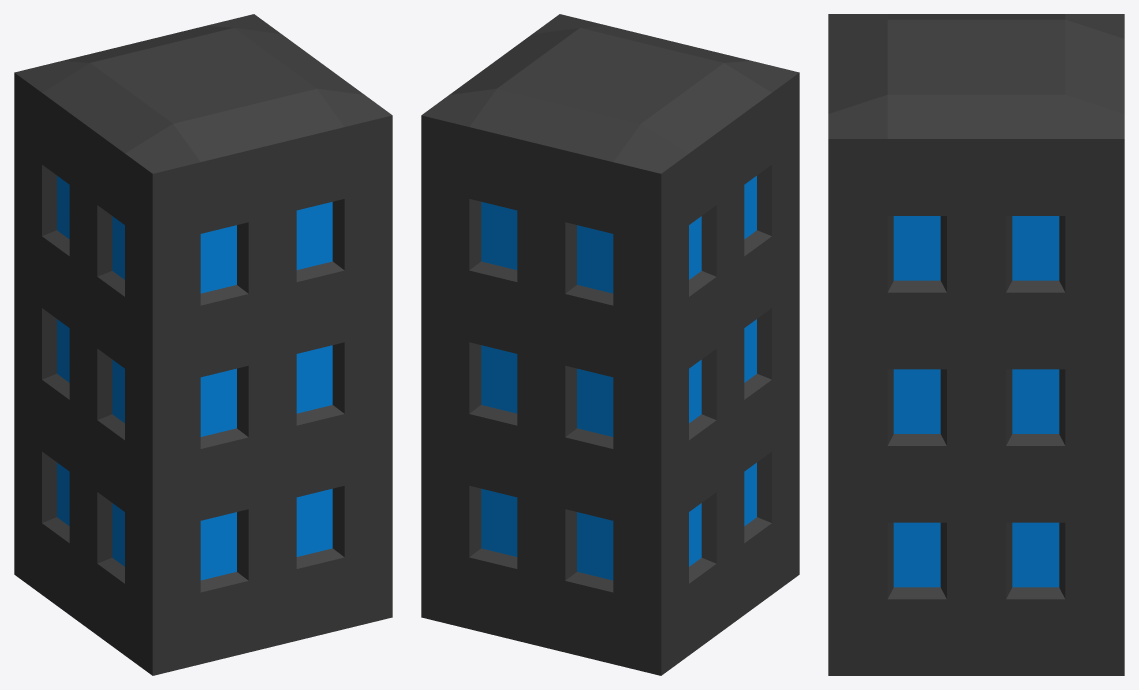
The model's file is Building.fbx.
3 renders of one model, left to right at view 1: azimuth 30°, elevation 25°; view 2: azimuth 150°, elevation 25°; view 3: azimuth 270°, elevation 25°, orthographic. The views are drawn at different scales.
Visible parts, largest first — view 1: Cube; view 2: Cube; view 3: Cube.
Boxes of the visible parts, x1,y1,x2,y2 form: Cube: (14, 14, 392, 675); Cube: (421, 14, 799, 675); Cube: (828, 14, 1124, 675).
Bounding box in the file's own units: 200 × 414 × 200.
